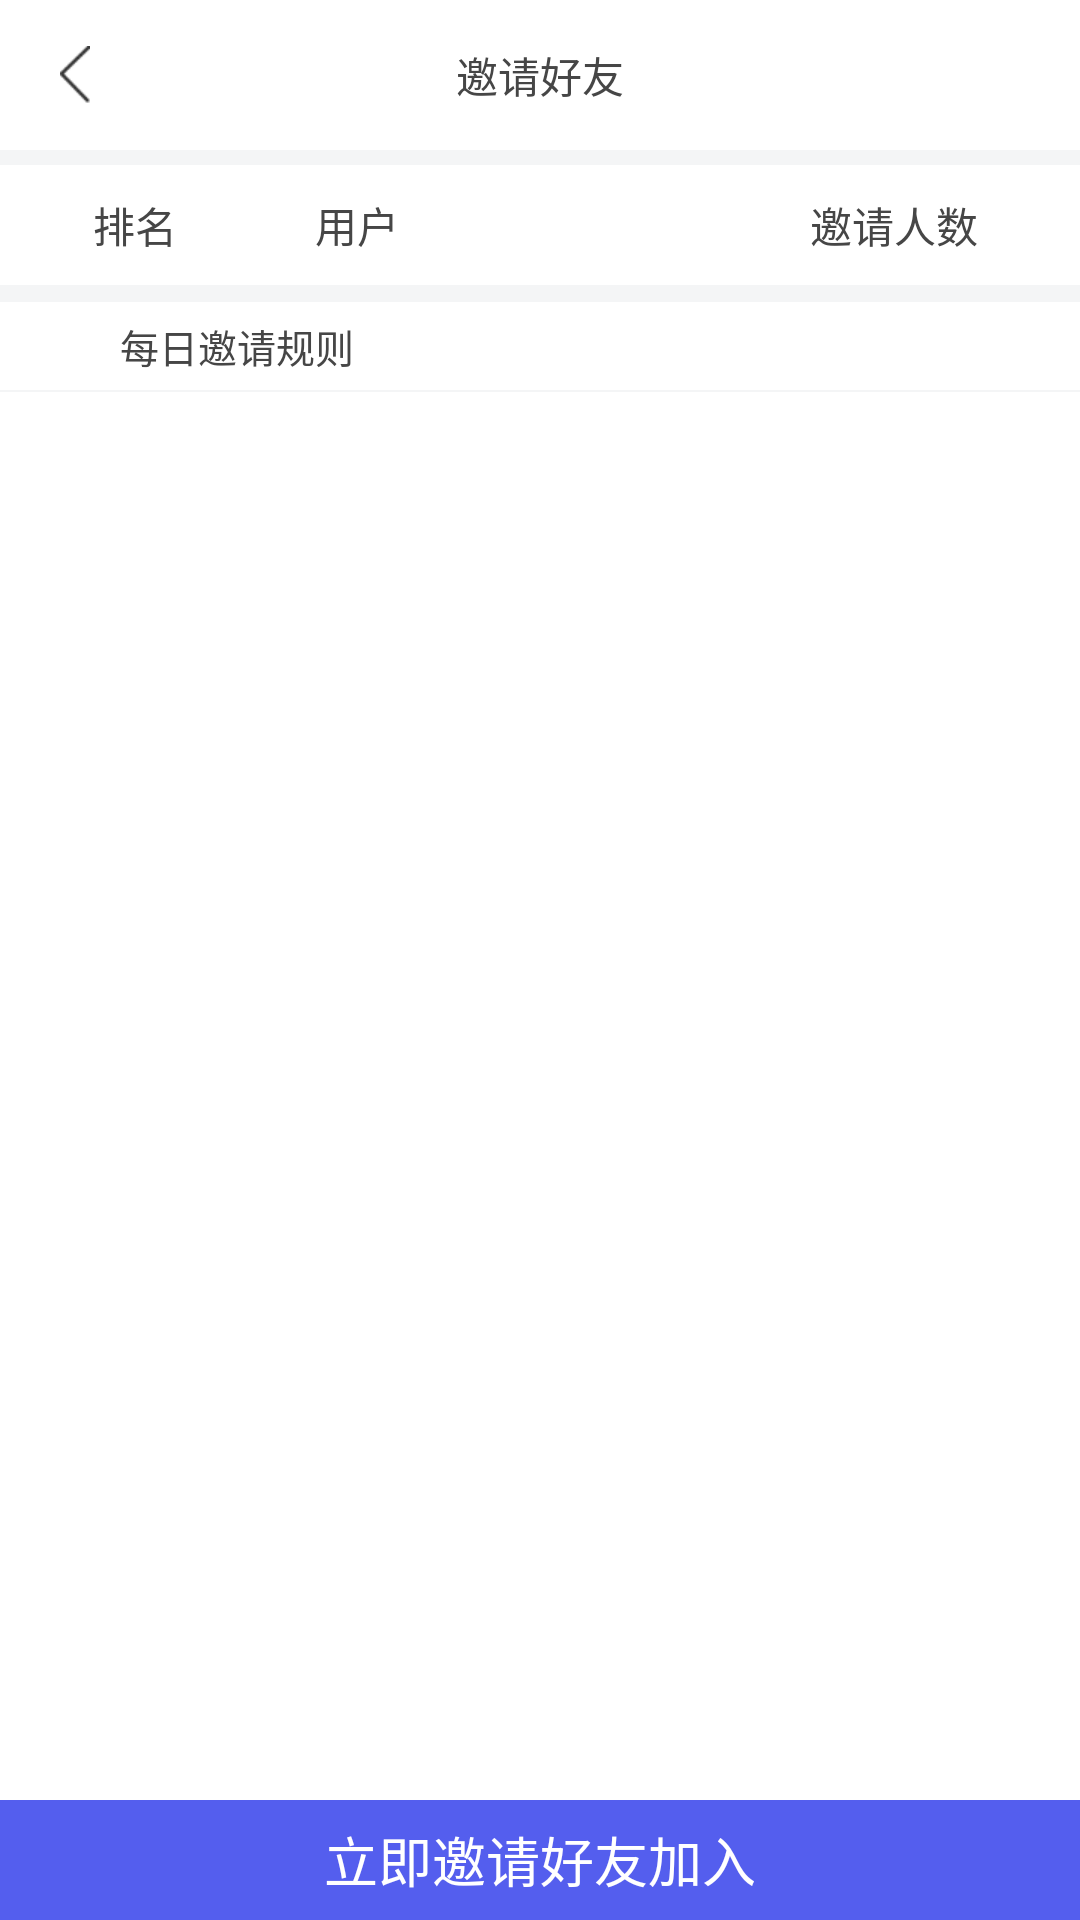

Icons on this 1080w x 1920h Android screen, each with its box as (x1, y1, x2, y2):
back: (60, 46, 90, 103)
